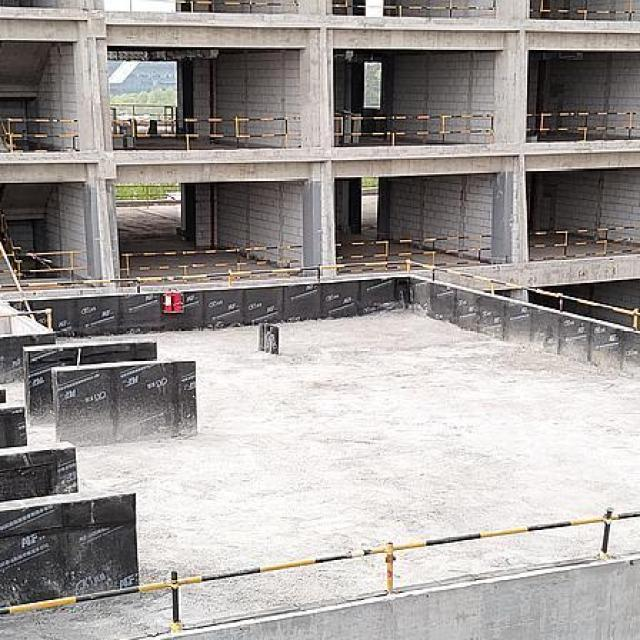edge_guardrail: (0, 507, 640, 632), (0, 259, 640, 330), (119, 245, 304, 279), (110, 118, 289, 148), (336, 234, 493, 266), (334, 114, 495, 144), (527, 225, 640, 262), (525, 112, 639, 142), (331, 0, 496, 19), (0, 250, 91, 283), (0, 117, 81, 152), (529, 0, 639, 21), (169, 0, 301, 14), (114, 185, 180, 201), (110, 103, 177, 118)
